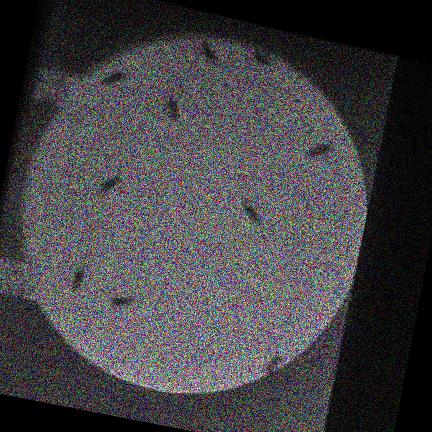fly: (243, 200, 261, 224), (98, 176, 121, 194), (103, 70, 127, 85), (201, 41, 217, 63), (263, 355, 282, 373), (72, 265, 85, 291), (309, 143, 333, 157), (111, 295, 136, 307), (165, 99, 179, 120), (254, 49, 272, 65)
